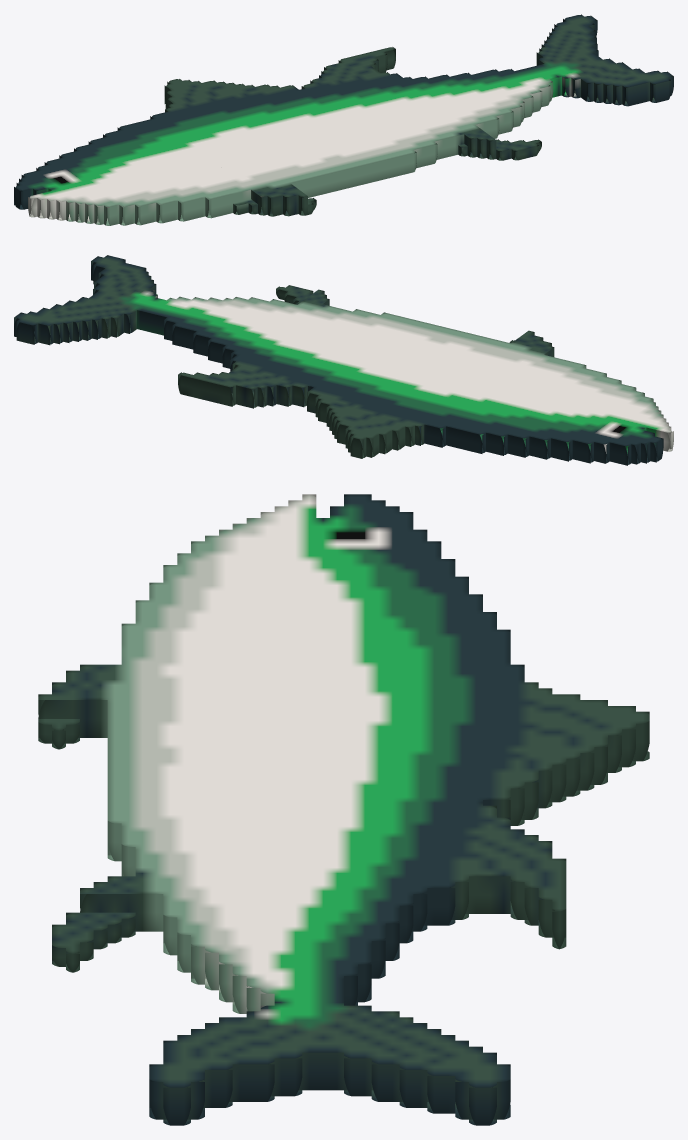
The model's file is Tuna_2_model.fbx.
3 views of the same model, one above another, from view 1: azimuth 30°, elevation 25°; view 2: azimuth 150°, elevation 25°; view 3: azimuth 270°, elevation 25° (orthographic). The views are drawn at different scales.
Visible parts, largest first — view 1: Tuna_Green_0; view 2: Tuna_Green_0; view 3: Tuna_Green_0.
Part boxes in pixels (x1,y1,x2,y2): Tuna_Green_0: (14,14,673,225); Tuna_Green_0: (14,255,673,465); Tuna_Green_0: (38,494,649,1125).
Bounding box in the file's own units: 84.17 × 2.5 × 36.67.
1 material, 1 textured.
